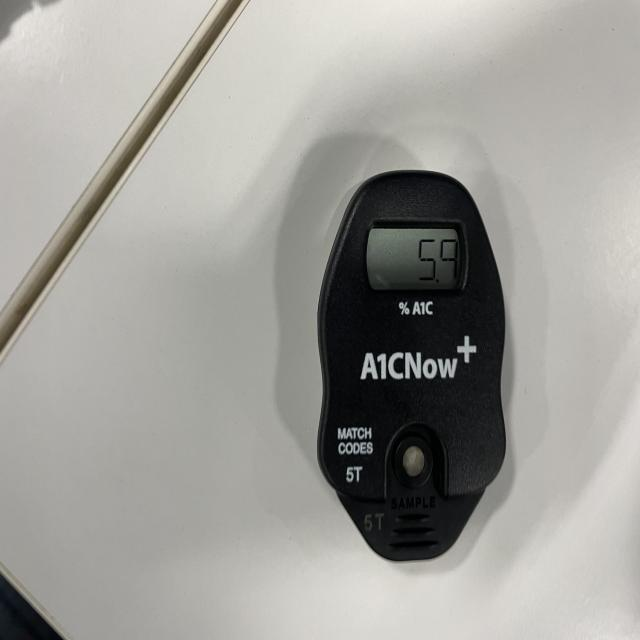hba1c: (315, 171, 512, 567)
